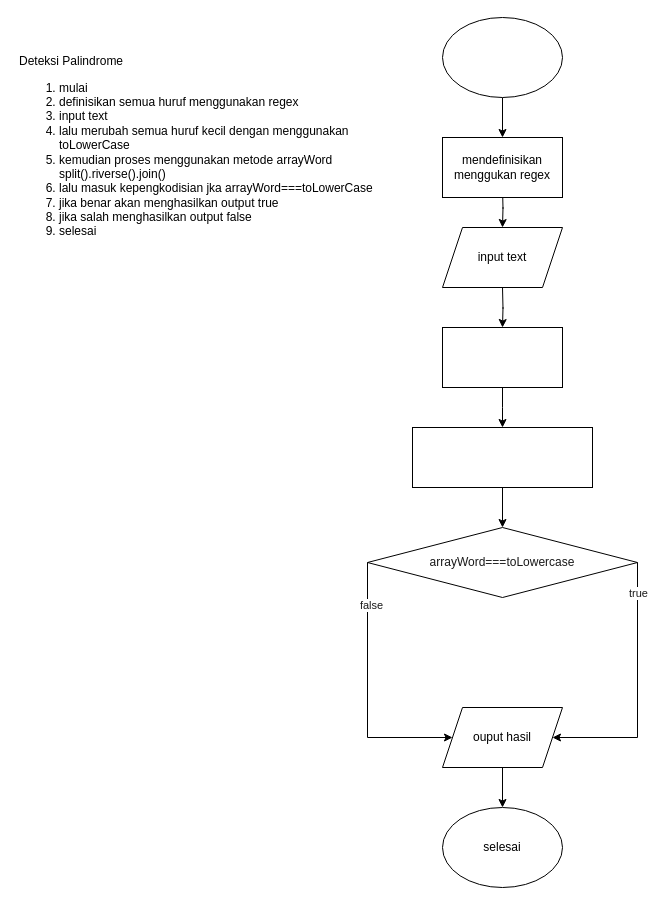
Image size: 664x905. Some labels were removed from this diagram. The shapes that lost their labels are listed below. From the top down, each one's centre as x and y in pixels, then its label:
pixel 502 57: mulai
pixel 502 357: merubah huruf kecil(toLowerCase)
pixel 502 457: arrayWord.split().riverse().join()
